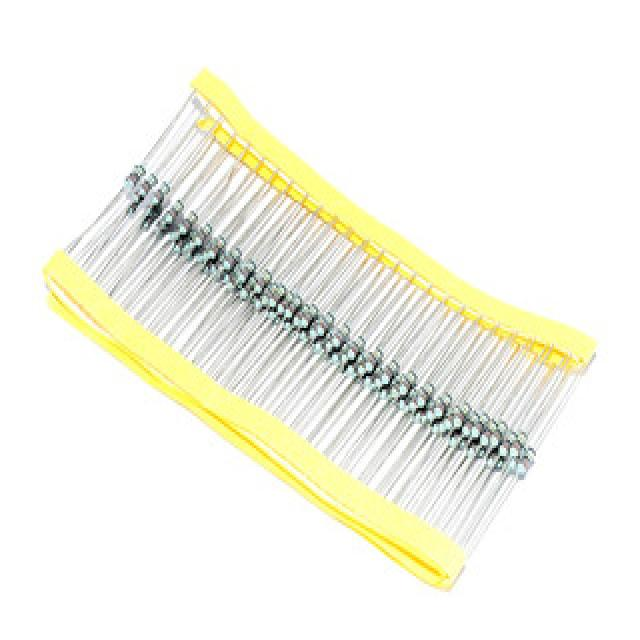Resistor: (158, 195, 248, 294), (441, 399, 532, 476), (244, 268, 319, 342), (342, 337, 383, 384), (124, 168, 158, 216), (500, 427, 530, 471), (178, 216, 205, 258), (328, 326, 356, 364), (471, 410, 499, 448), (160, 199, 186, 235), (419, 393, 446, 427), (448, 407, 474, 441), (140, 193, 164, 229), (277, 289, 303, 321), (373, 362, 398, 394), (216, 243, 240, 276), (233, 257, 256, 290), (393, 372, 418, 402), (294, 302, 318, 333), (192, 238, 216, 269), (264, 282, 288, 313), (250, 268, 273, 300), (407, 384, 431, 414), (206, 238, 227, 268), (366, 346, 385, 375), (162, 222, 185, 244), (310, 316, 330, 341), (351, 335, 369, 362), (458, 402, 476, 425), (517, 454, 534, 478), (127, 163, 146, 184), (182, 210, 200, 232), (436, 391, 452, 413), (155, 180, 171, 200)
